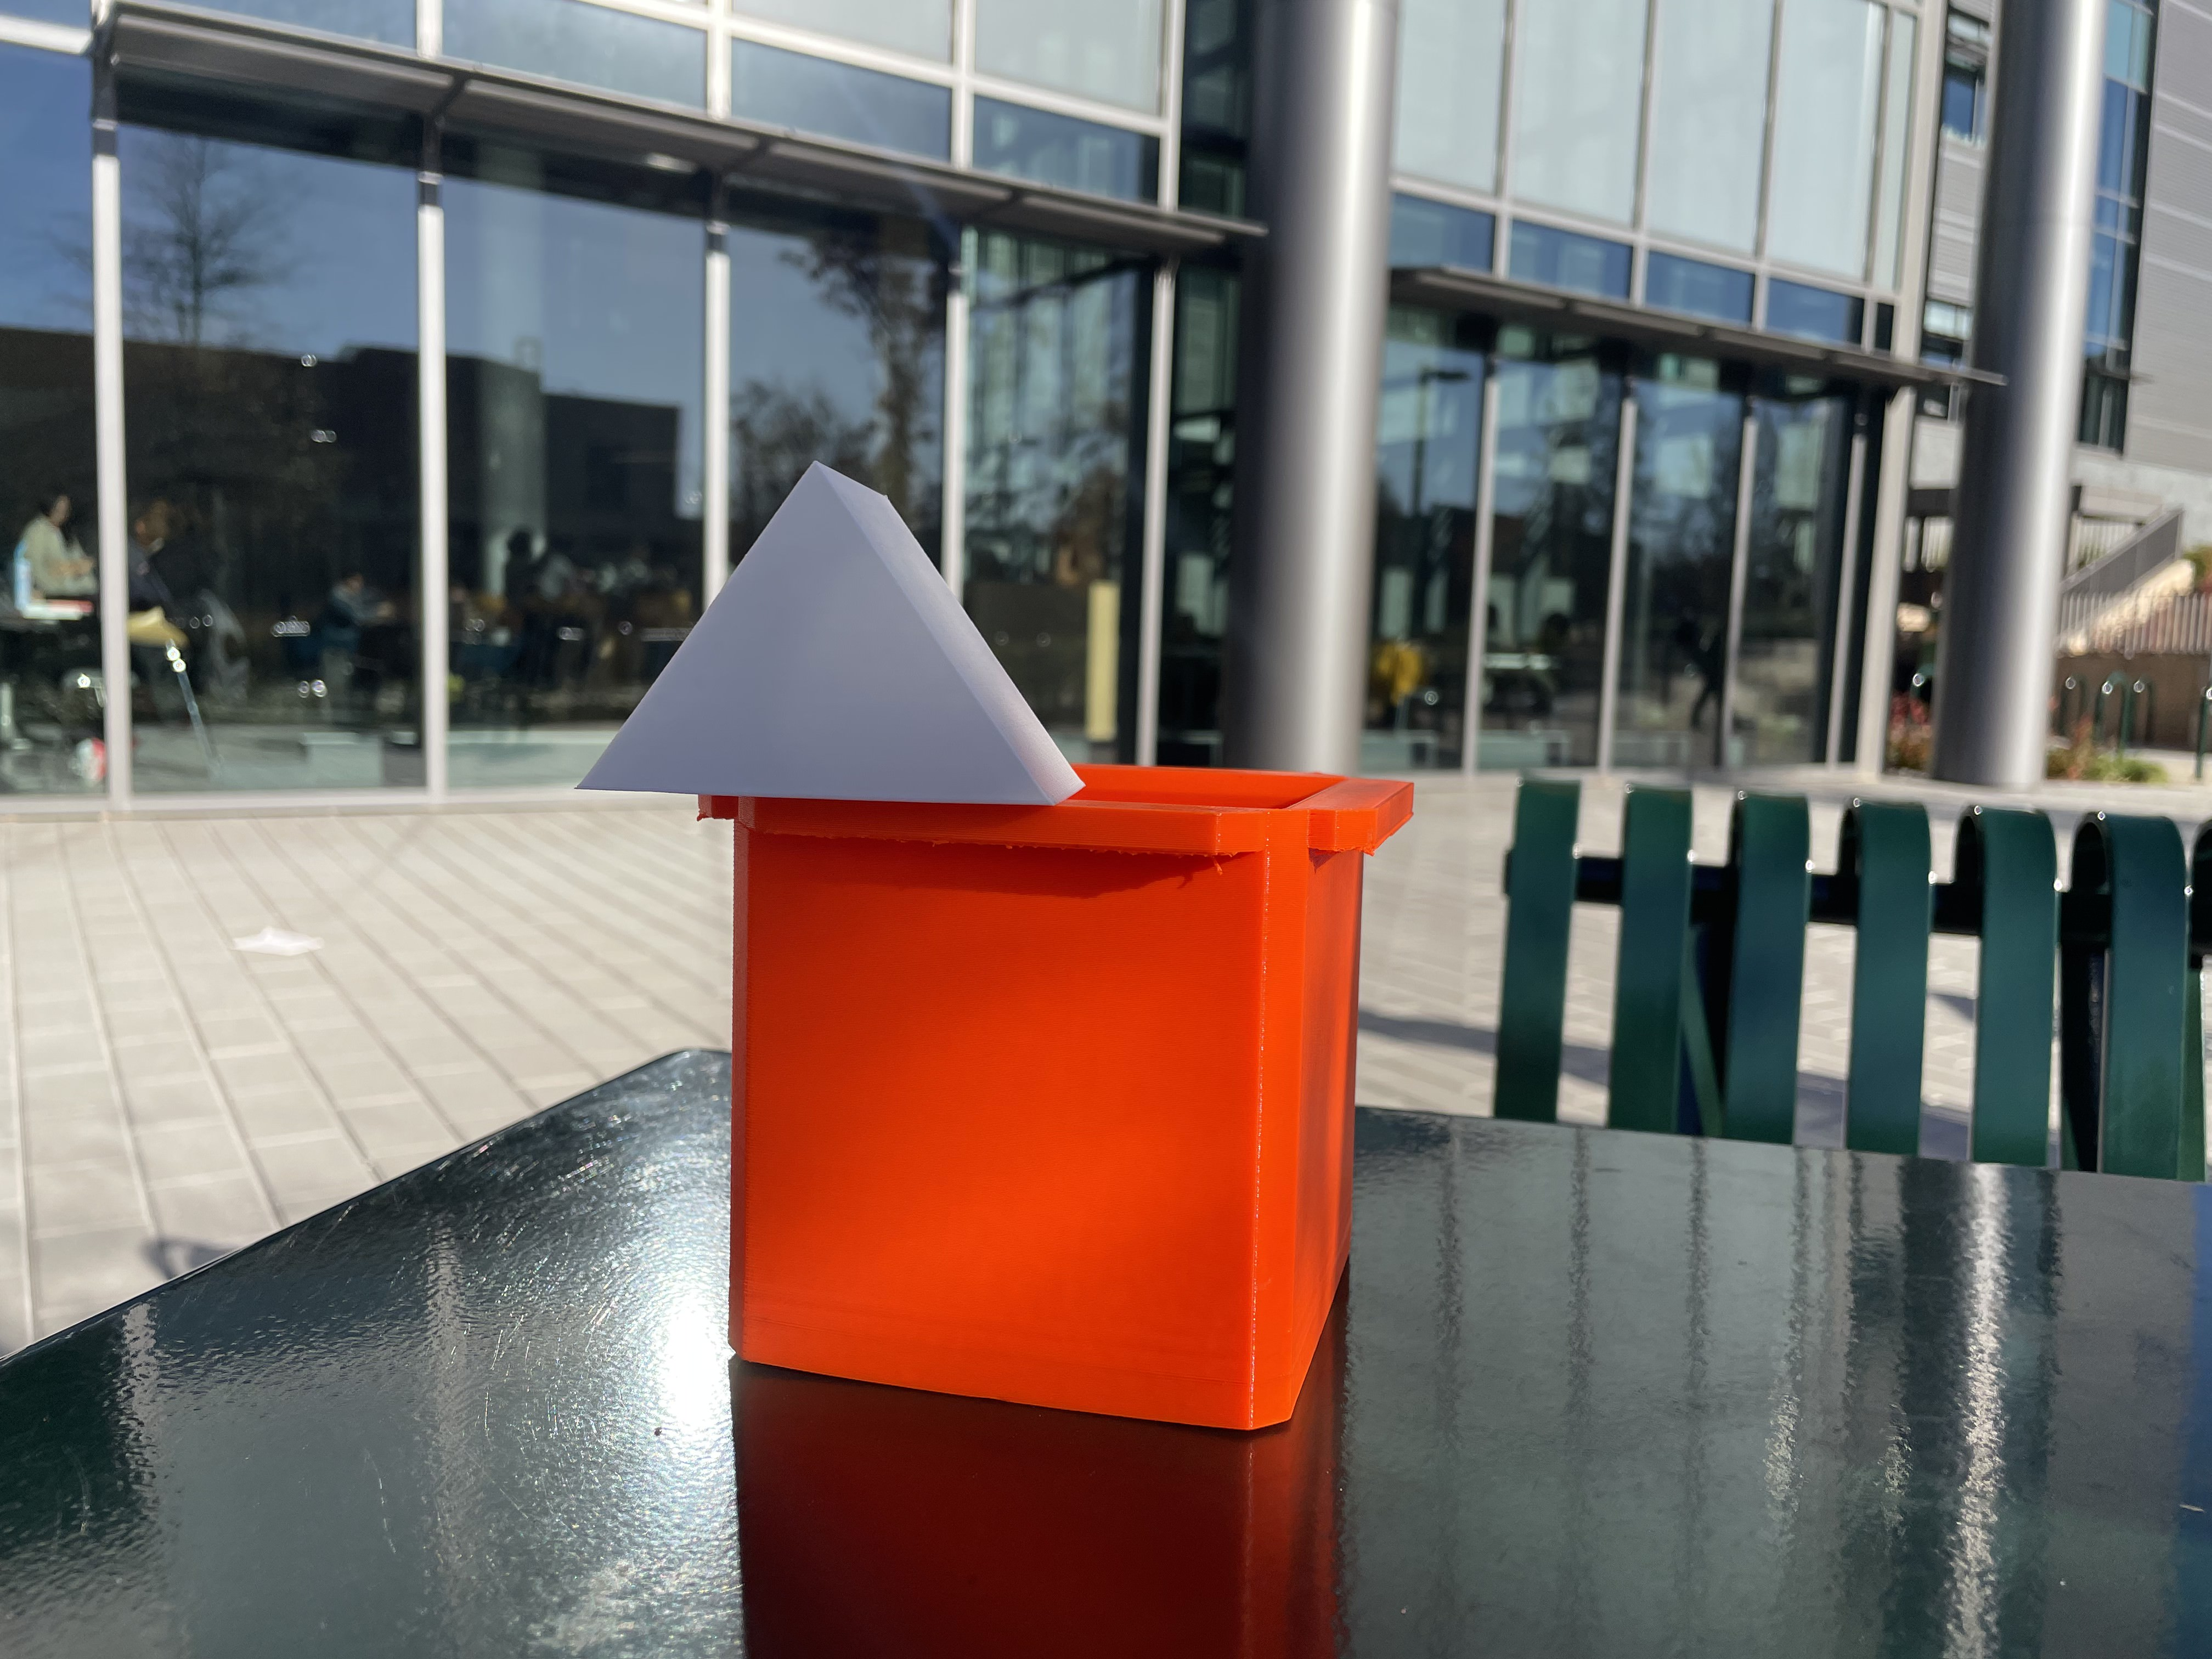payload1: (658, 749, 1442, 1483)
payload2: (564, 453, 1096, 819)
